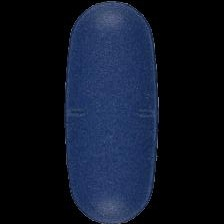54868-3993: (0, 0, 224, 224)
